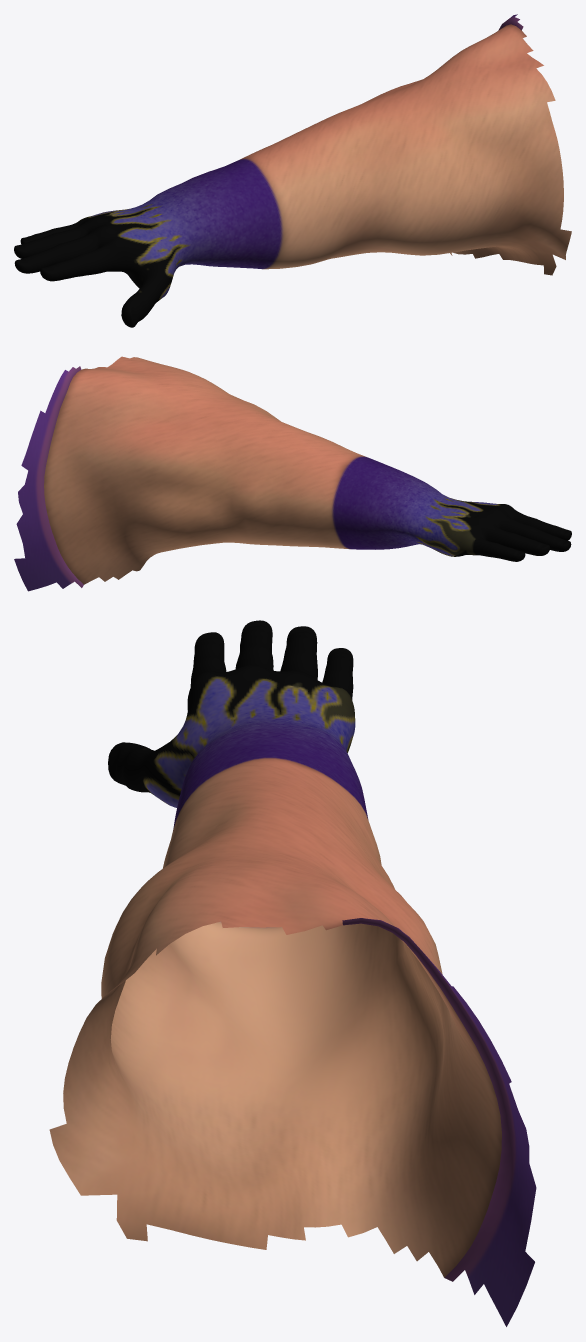
The model's file is Hands.fbx.
3 renders of one model, top to bottom at view 1: azimuth 30°, elevation 25°; view 2: azimuth 150°, elevation 25°; view 3: azimuth 270°, elevation 25°, orthographic. The views are drawn at different scales.
Visible parts, largest first — view 1: Ch43.001; view 2: Ch43.001; view 3: Ch43.001.
Part boxes in pixels (box(x1,y1,x2,y2)): Ch43.001: box(14, 14, 571, 327); Ch43.001: box(14, 356, 571, 591); Ch43.001: box(49, 620, 536, 1326).
Bounding box in the file's own units: 98.63 × 38.83 × 42.74.
